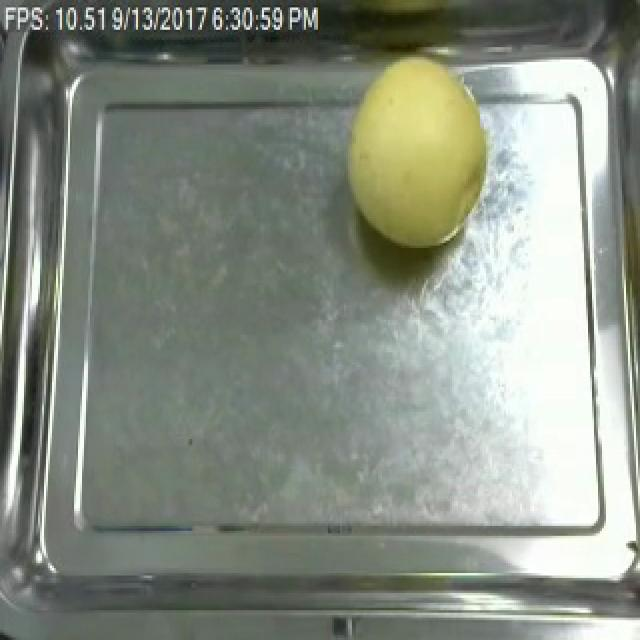Fruit: (334, 44, 500, 256)
